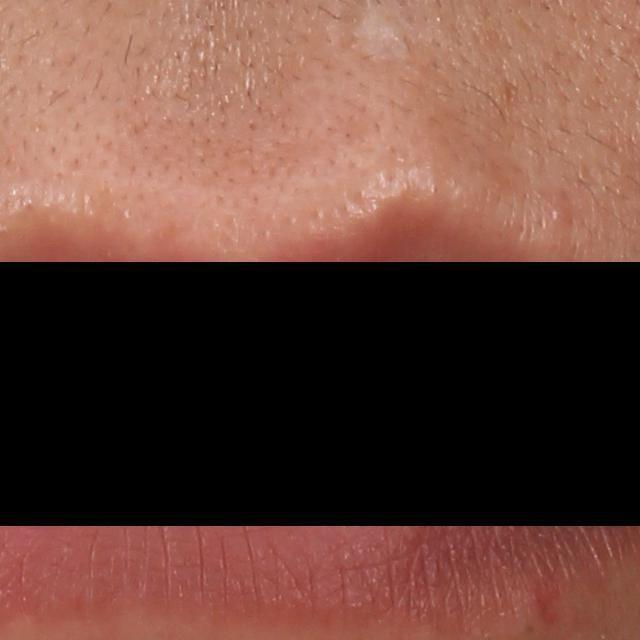comedo: (542, 198, 576, 231)
hypertrophic_scar: (355, 1, 408, 59)
